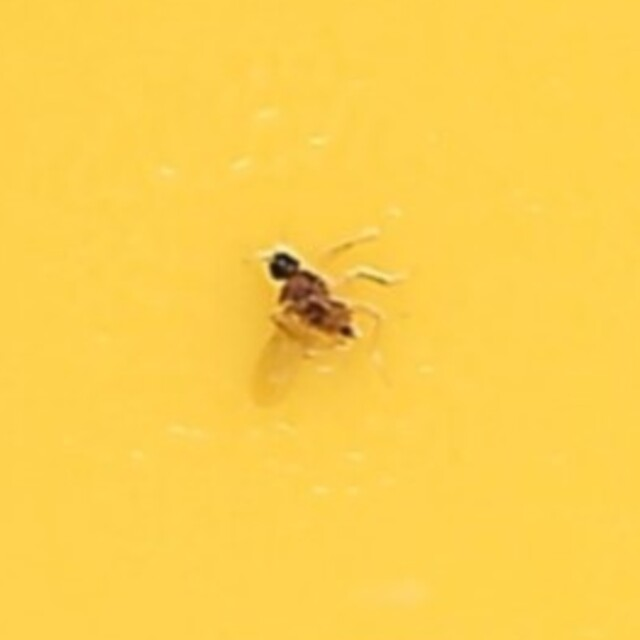Brachycera: (244, 233, 396, 407)
